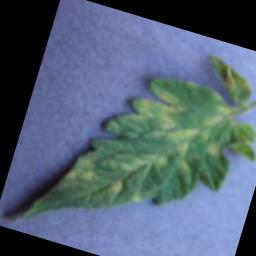Leaf_Mold: (122, 80, 207, 158), (65, 144, 110, 189), (202, 100, 234, 136), (153, 152, 172, 172), (106, 176, 124, 197)
